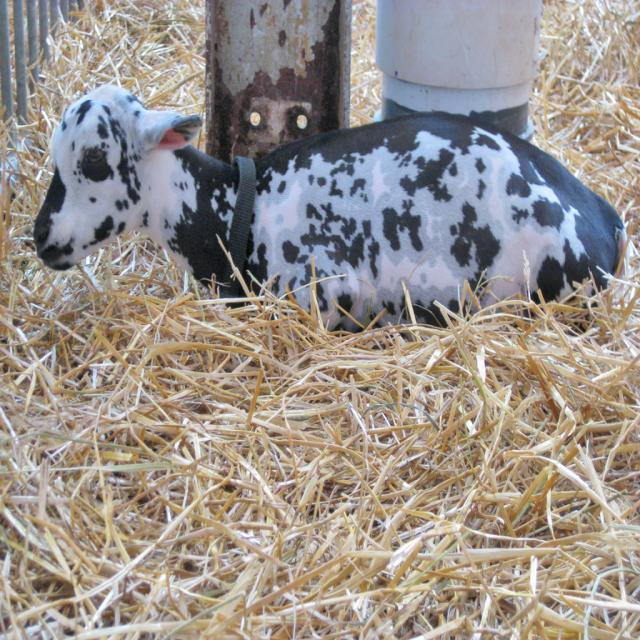Goat: (33, 83, 630, 350)
